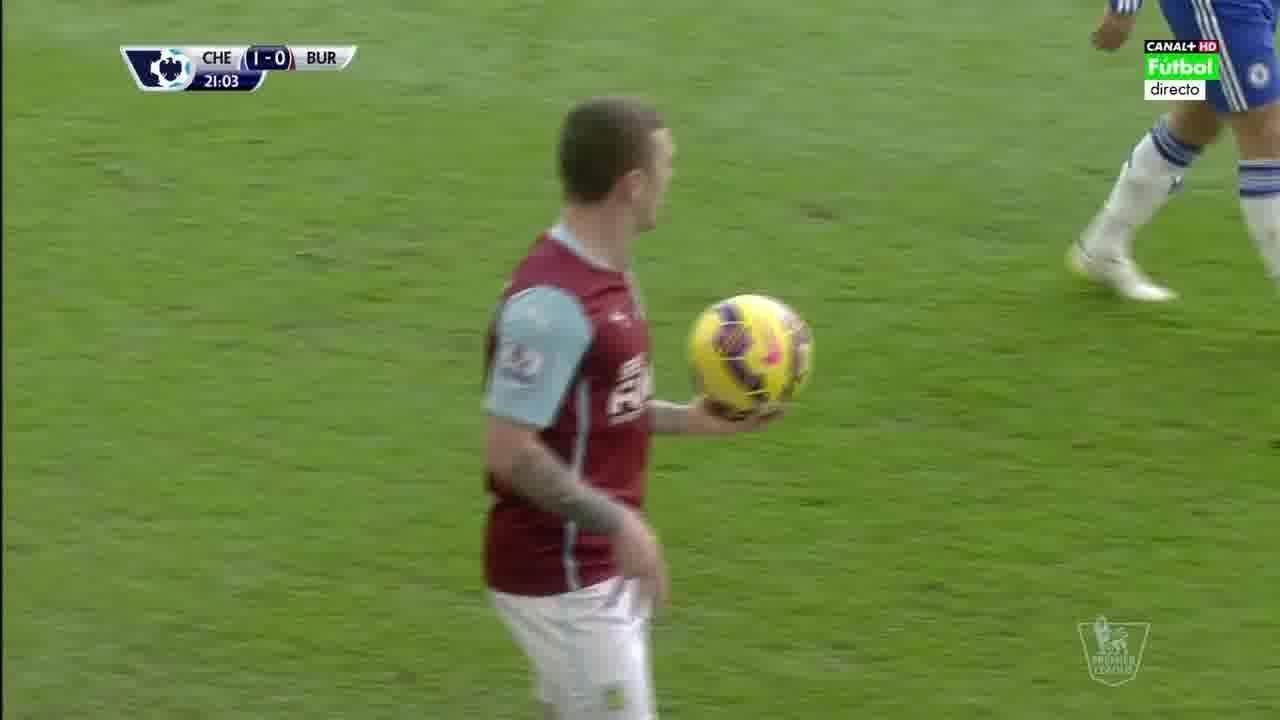football: (684, 291, 815, 414)
